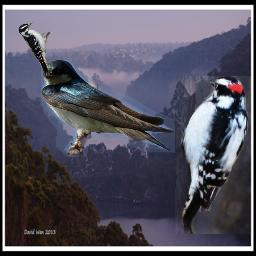Swallow: (41, 60, 175, 157)
Woodpecker: (173, 76, 252, 234), (18, 22, 53, 77)
